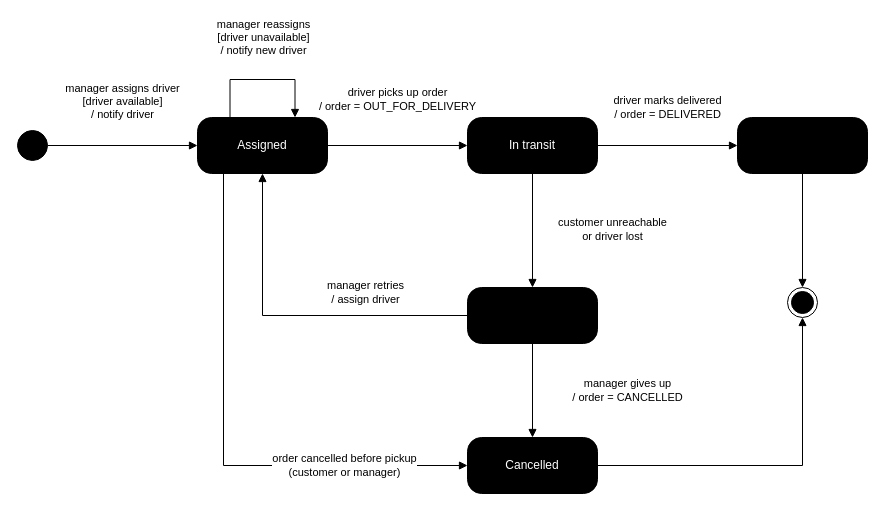
Some shapes in this 885 by 511 pixel diagram are drawn without their labels. Each missing label, with the centre of its shape:
Delivered: the point at 802,145
Failed: the point at 532,315
